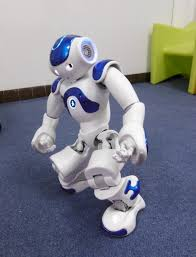nao: (31, 27, 154, 237)
